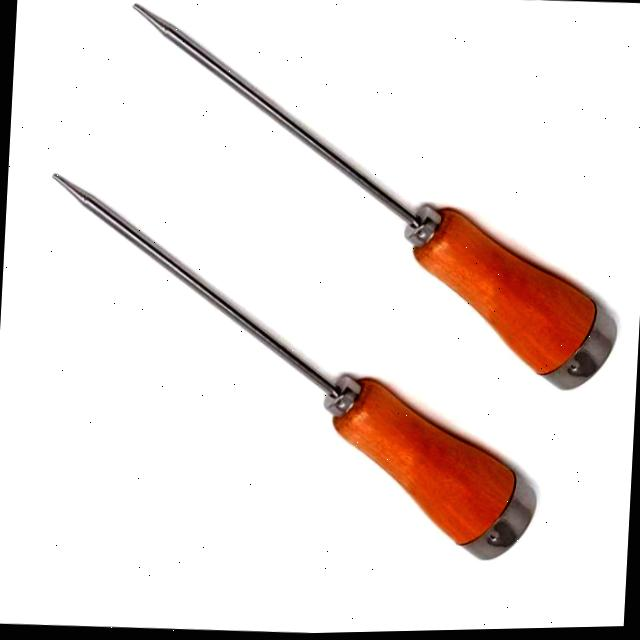ice pick: (30, 160, 558, 575), (111, 0, 637, 406)
